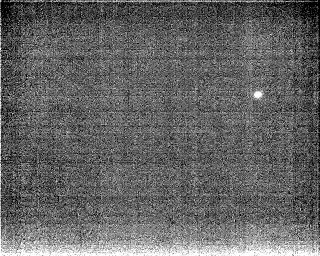AIRPLANE: (253, 89, 264, 100)
